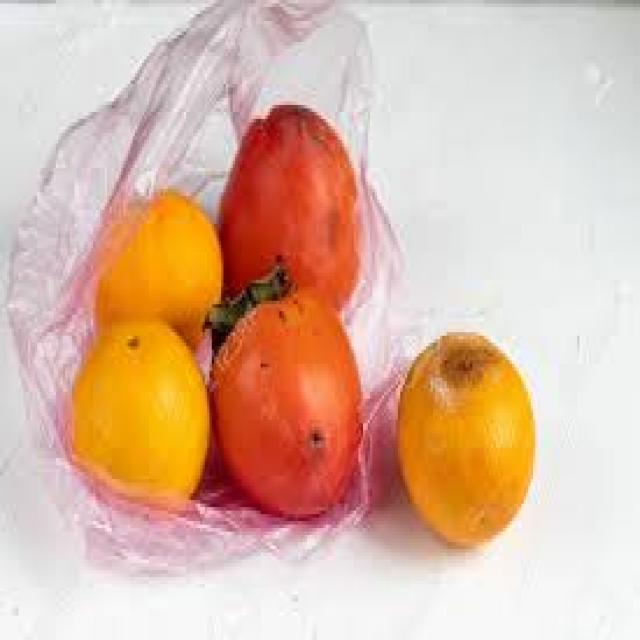organic waste: (200, 255, 361, 514), (396, 325, 533, 546), (216, 101, 358, 312), (70, 318, 207, 504), (91, 189, 221, 343)
